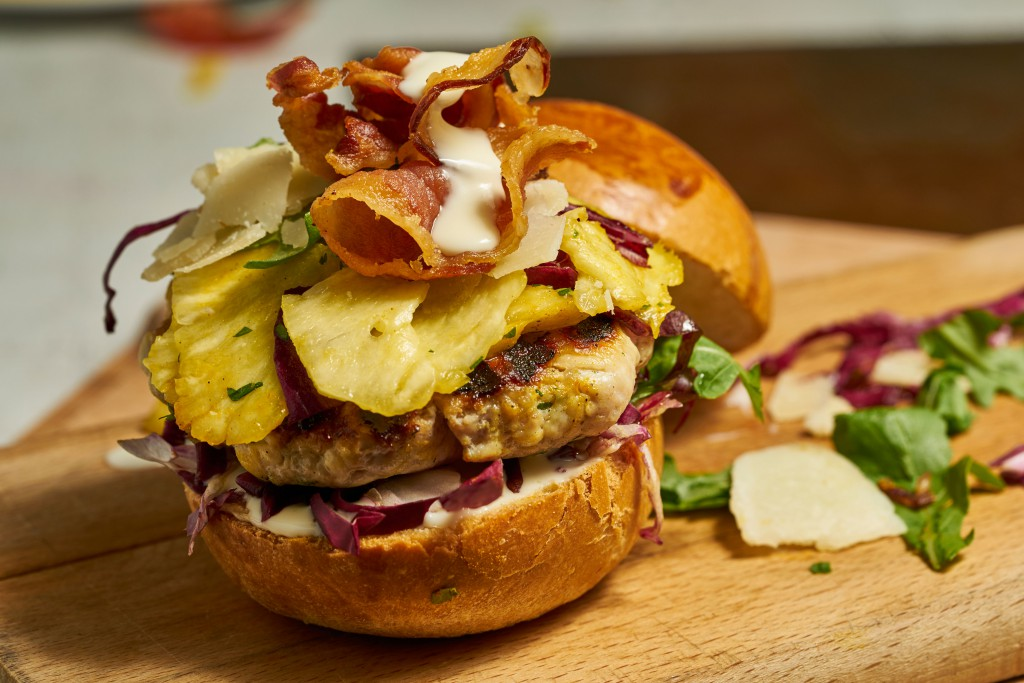hamburger: (108, 70, 819, 680)
